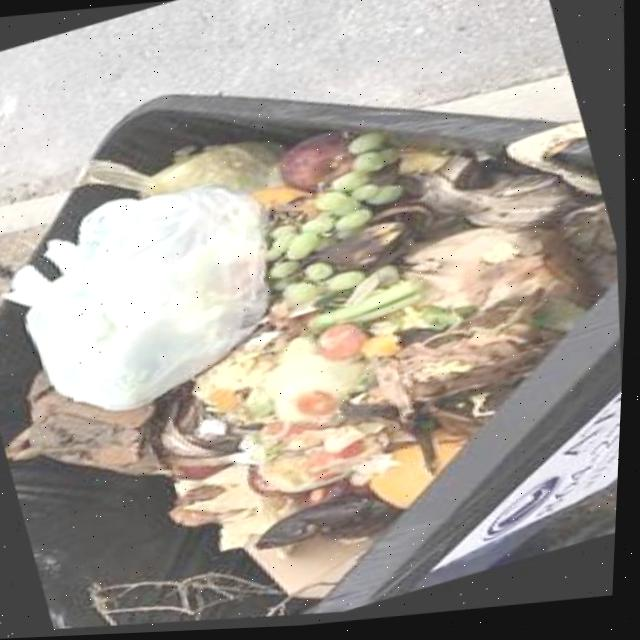Garbage: (15, 136, 604, 603)
Plastic_Bag: (15, 191, 274, 416)
Plastic_bottle: (179, 447, 368, 519), (269, 342, 374, 428)
